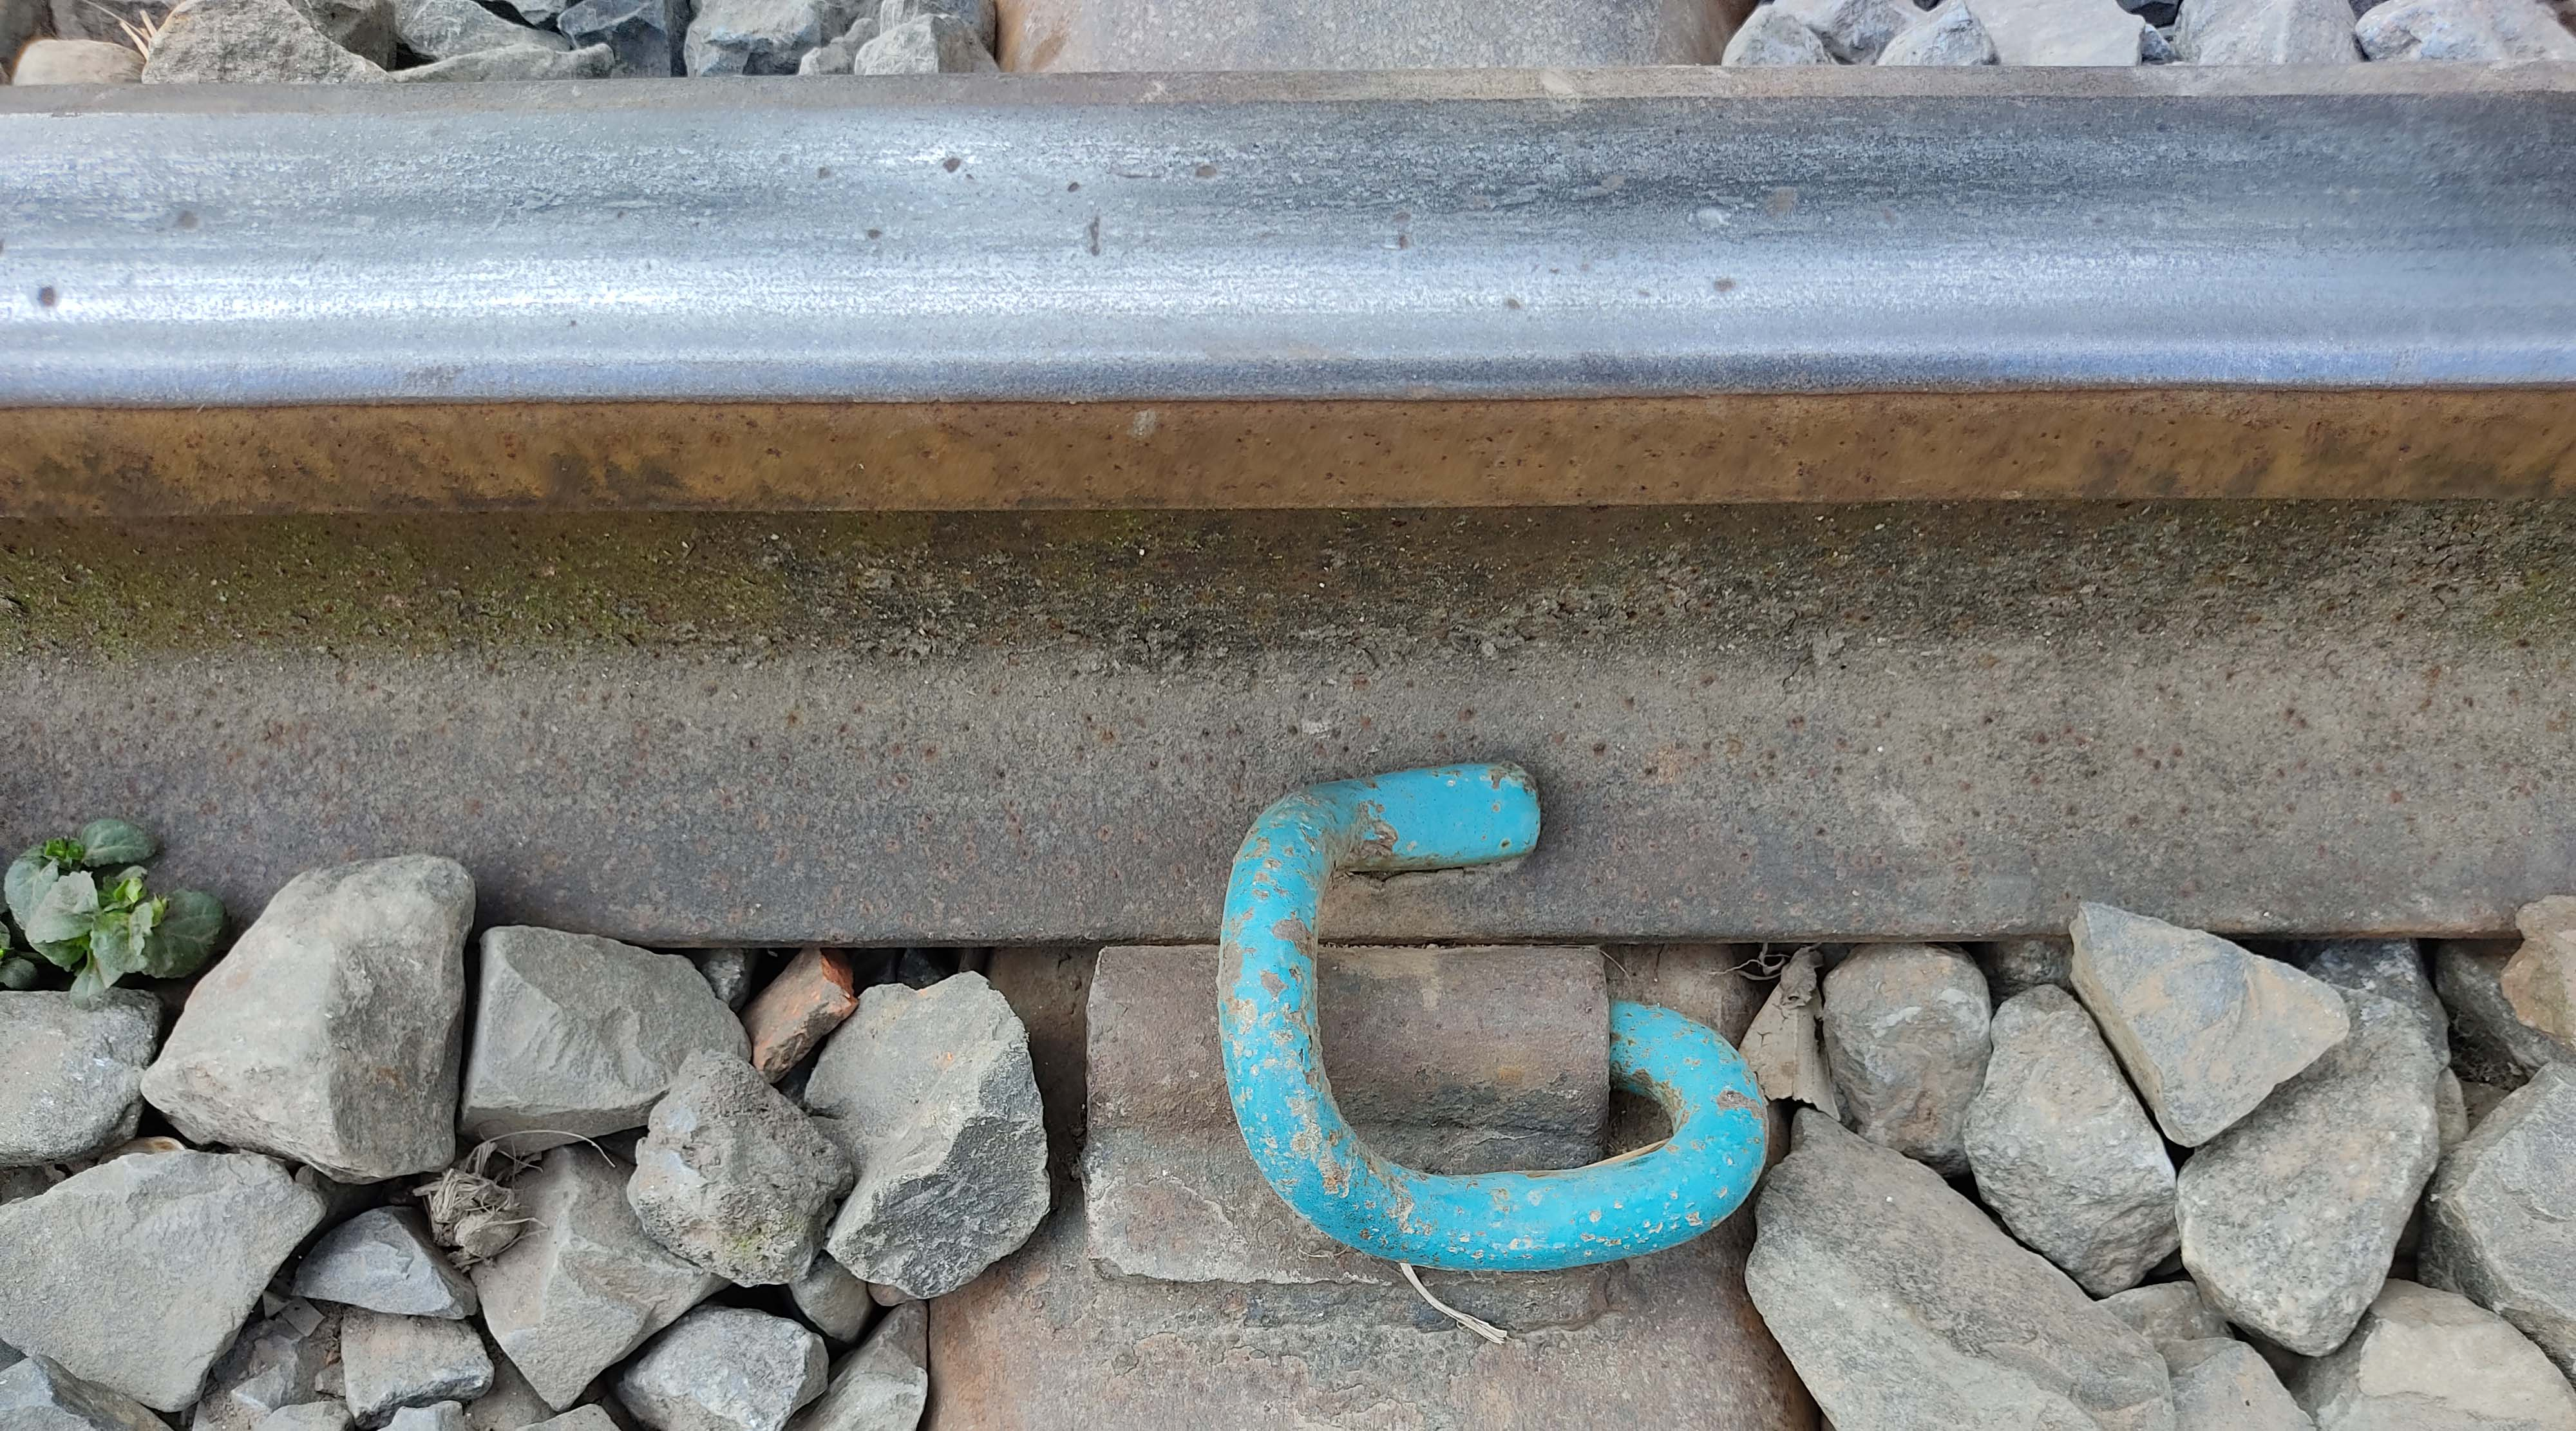error1: (1096, 686, 1691, 1290)
